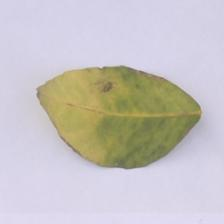greening: (31, 64, 206, 172)
